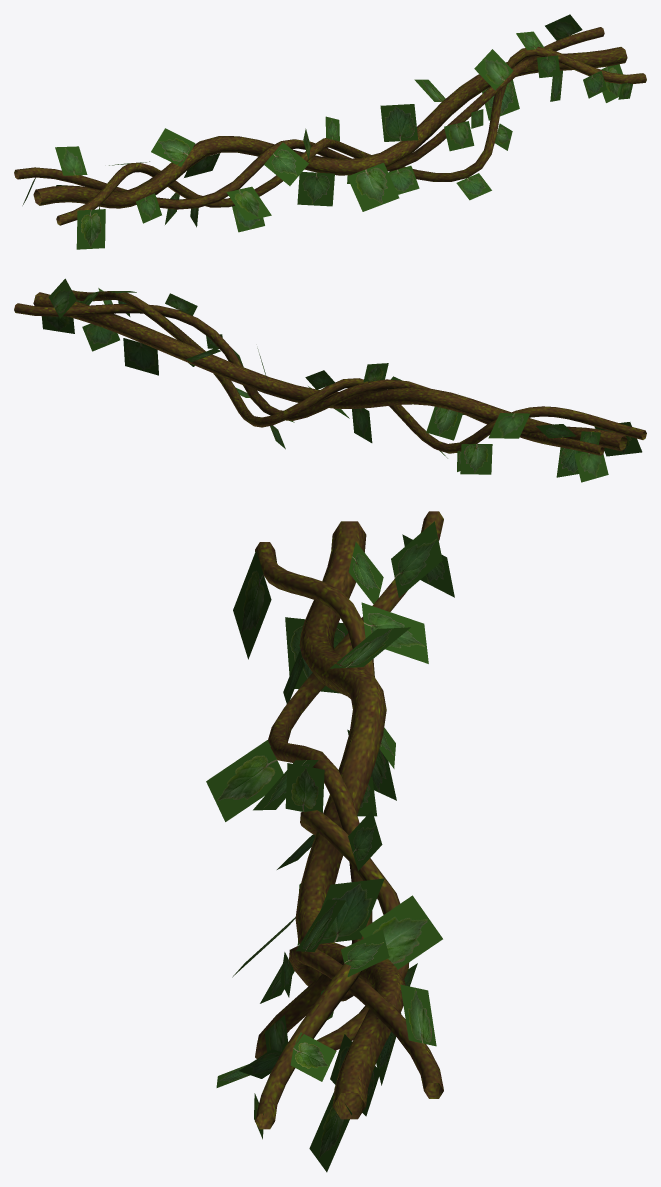
Rendered from sb_obj_nature010_Jungles02b.fbx.
3 views of the same model, one above another, from view 1: azimuth 30°, elevation 25°; view 2: azimuth 150°, elevation 25°; view 3: azimuth 270°, elevation 25° (orthographic). The views are drawn at different scales.
Parts seen in each view (by area): view 1: sb_obj_nature010_Jungles02b, leaf02b; view 2: sb_obj_nature010_Jungles02b, leaf02b; view 3: sb_obj_nature010_Jungles02b, leaf02b.
Part boxes in pixels (left/top/right/bottom): sb_obj_nature010_Jungles02b: left=14, top=27, right=646, bottom=225; leaf02b: left=22, top=14, right=632, bottom=249; sb_obj_nature010_Jungles02b: left=14, top=290, right=646, bottom=455; leaf02b: left=41, top=278, right=642, bottom=482; sb_obj_nature010_Jungles02b: left=255, top=511, right=443, bottom=1129; leaf02b: left=206, top=521, right=454, bottom=1172.
Size of the model in its own units: 4.01 by 0.7644 by 0.7363.
2 materials, 2 textured.
